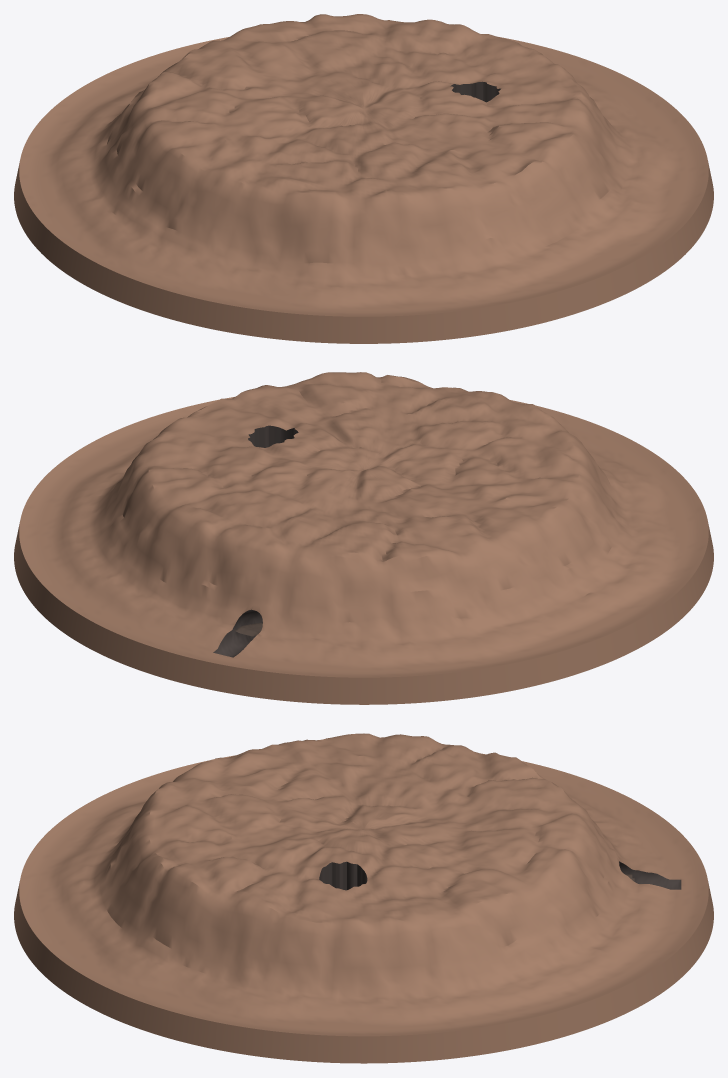
Rendered from mars_refuge.glb.
3 renders of one model, top to bottom at view 1: azimuth 30°, elevation 25°; view 2: azimuth 150°, elevation 25°; view 3: azimuth 270°, elevation 25°, orthographic.
Parts seen in each view (by area): view 1: refuge; view 2: refuge; view 3: refuge.
Part boxes in pixels (bbox=[...]): refuge: bbox=[14, 14, 713, 343]; refuge: bbox=[14, 372, 713, 704]; refuge: bbox=[14, 733, 713, 1063].
Bounding box in the file's own units: 203 × 51.37 × 203.
